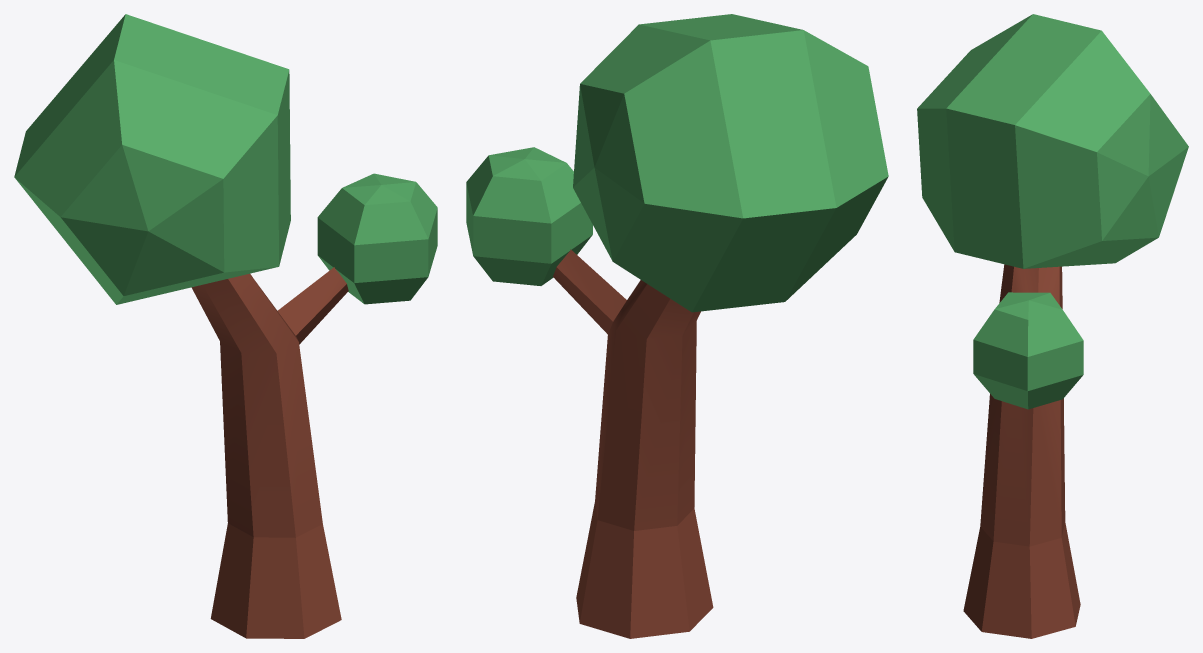
File: tree3.fbx
3 views of the same model, side by side, from view 1: azimuth 30°, elevation 25°; view 2: azimuth 150°, elevation 25°; view 3: azimuth 270°, elevation 25° (orthographic). The views are drawn at different scales.
Visible parts, largest first — view 1: pCylinder45; view 2: pCylinder45; view 3: pCylinder45.
Part boxes in pixels (box(x1,y1,x2,y2)): pCylinder45: box(14, 14, 437, 638); pCylinder45: box(466, 14, 888, 638); pCylinder45: box(917, 14, 1188, 638).
Size of the model in its own units: 4303 by 6299 by 2898.
